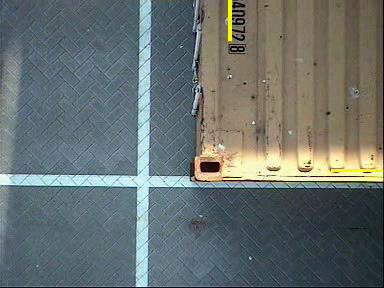groundmarker_2: (66, 170, 162, 253)
